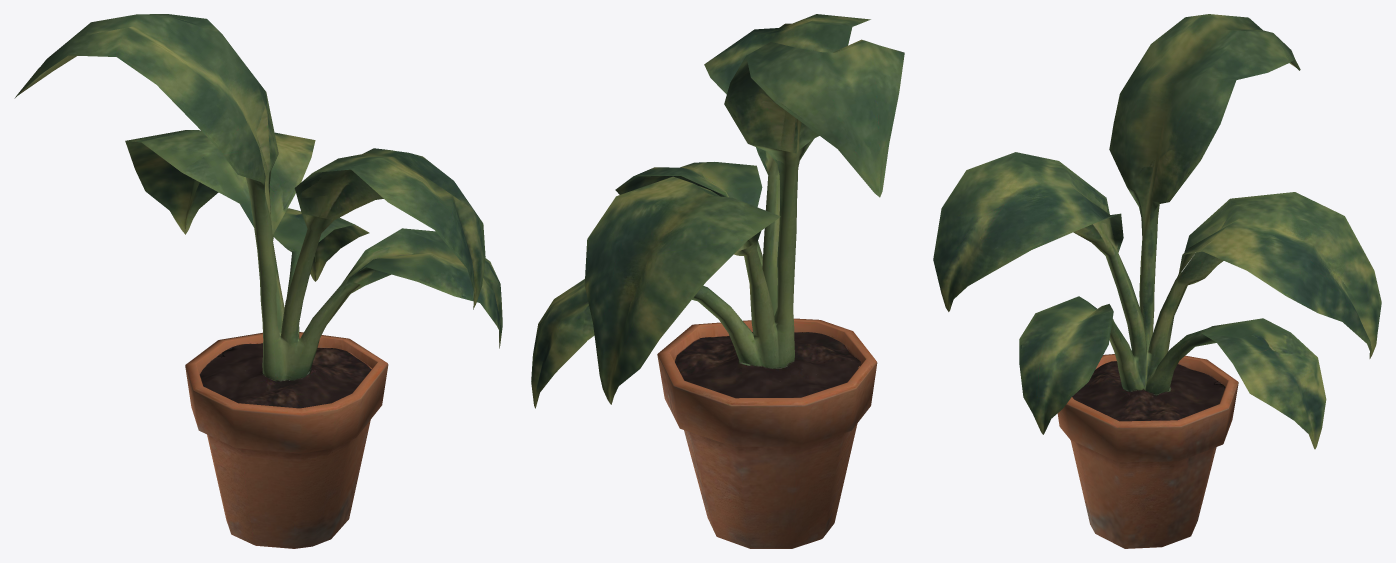
Rendered from plant.glb.
3 views of the same model, side by side, from view 1: azimuth 30°, elevation 25°; view 2: azimuth 150°, elevation 25°; view 3: azimuth 270°, elevation 25° (orthographic). The views are drawn at different scales.
Parts seen in each view (by area): view 1: tripo_node_60e44a04-ffa9-4013-8766-142615a20b78; view 2: tripo_node_60e44a04-ffa9-4013-8766-142615a20b78; view 3: tripo_node_60e44a04-ffa9-4013-8766-142615a20b78.
Part boxes in pixels (<box>): tripo_node_60e44a04-ffa9-4013-8766-142615a20b78: <box>14,14,502,548</box>; tripo_node_60e44a04-ffa9-4013-8766-142615a20b78: <box>531,14,904,548</box>; tripo_node_60e44a04-ffa9-4013-8766-142615a20b78: <box>933,14,1381,548</box>.
Size of the model in its own units: 0.7544 by 0.9995 by 0.8892.
Materials: 1 (1 with a texture image).
